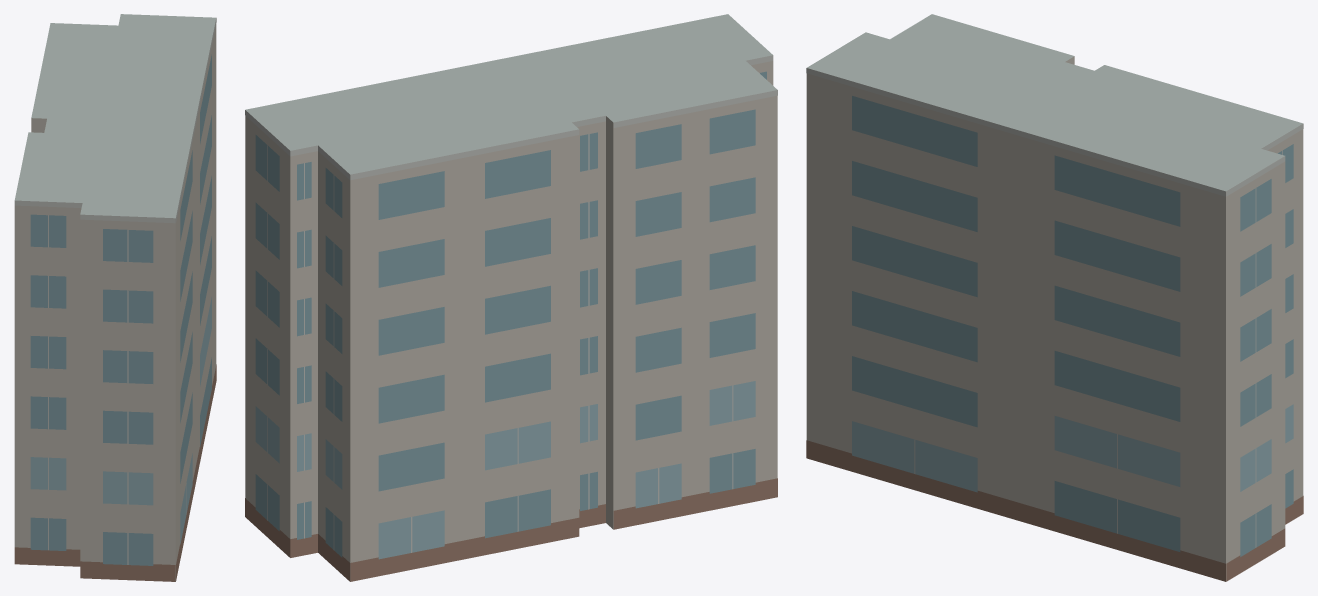
Rendered from survey-upis-32631768.glb.
3 views of the same model, side by side, from view 1: azimuth 30°, elevation 25°; view 2: azimuth 150°, elevation 25°; view 3: azimuth 270°, elevation 25° (orthographic). The views are drawn at different scales.
Visible parts, largest first — view 1: survey-upis-32631768.tmp; view 2: survey-upis-32631768.tmp; view 3: survey-upis-32631768.tmp.
Part boxes in pixels (x1=…): survey-upis-32631768.tmp: x1=14, y1=14, x2=216, y2=581; survey-upis-32631768.tmp: x1=245, y1=14, x2=777, y2=581; survey-upis-32631768.tmp: x1=806, y1=14, x2=1303, y2=581.
Size of the model in its own units: 17.21 by 17.65 by 20.37.
